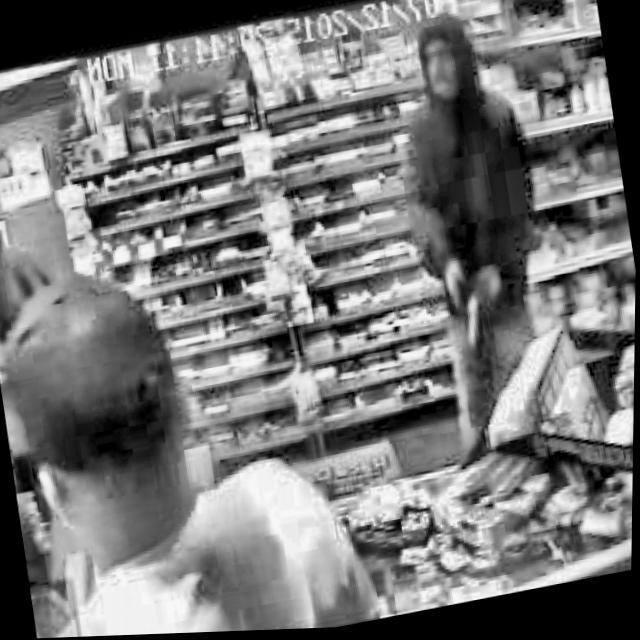robbery: (363, 6, 582, 457)
